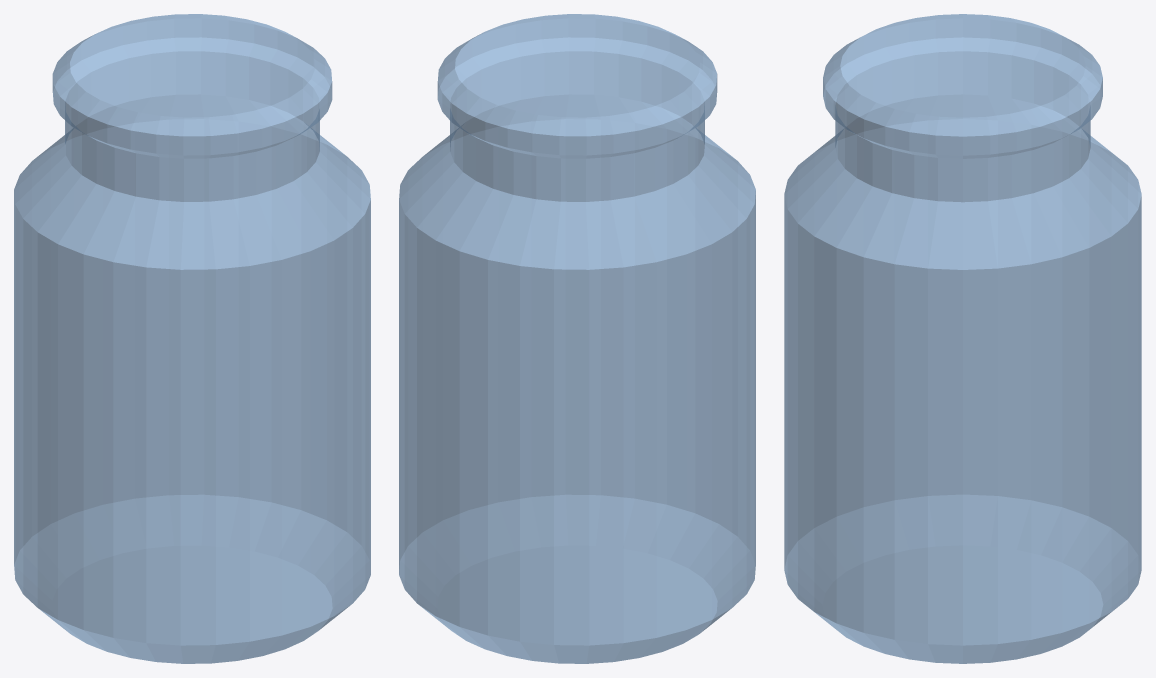
The model's file is jar.glb.
3 renders of one model, left to right at view 1: azimuth 30°, elevation 25°; view 2: azimuth 150°, elevation 25°; view 3: azimuth 270°, elevation 25°, orthographic.
Parts seen in each view (by area): view 1: Cylinder; view 2: Cylinder; view 3: Cylinder.
Part boxes in pixels (<box>): Cylinder: <box>14,14,370,663</box>; Cylinder: <box>399,14,755,663</box>; Cylinder: <box>784,14,1141,663</box>.
Bounding box in the file's own units: 2 × 3.33 × 2.
